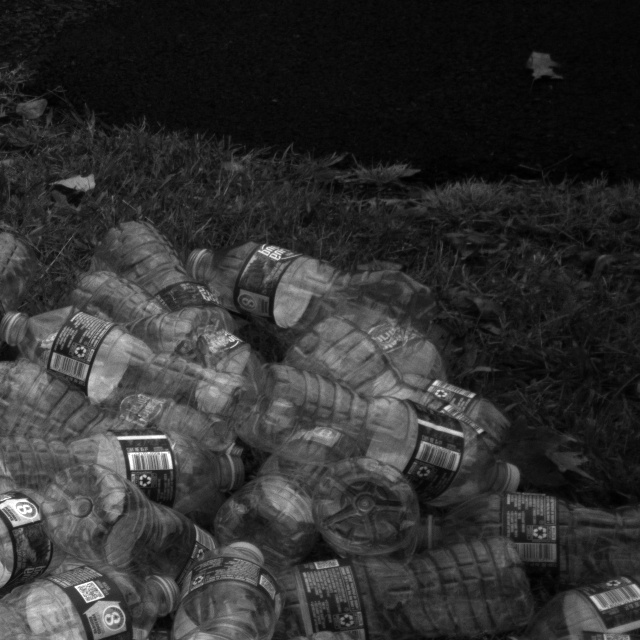bottle: (235, 351, 502, 519), (0, 282, 245, 433), (373, 452, 639, 581), (62, 232, 266, 398), (264, 524, 554, 640), (166, 218, 428, 343), (0, 409, 231, 517), (0, 536, 188, 640), (0, 461, 94, 624), (160, 531, 292, 640), (0, 471, 82, 626), (0, 222, 50, 388)
